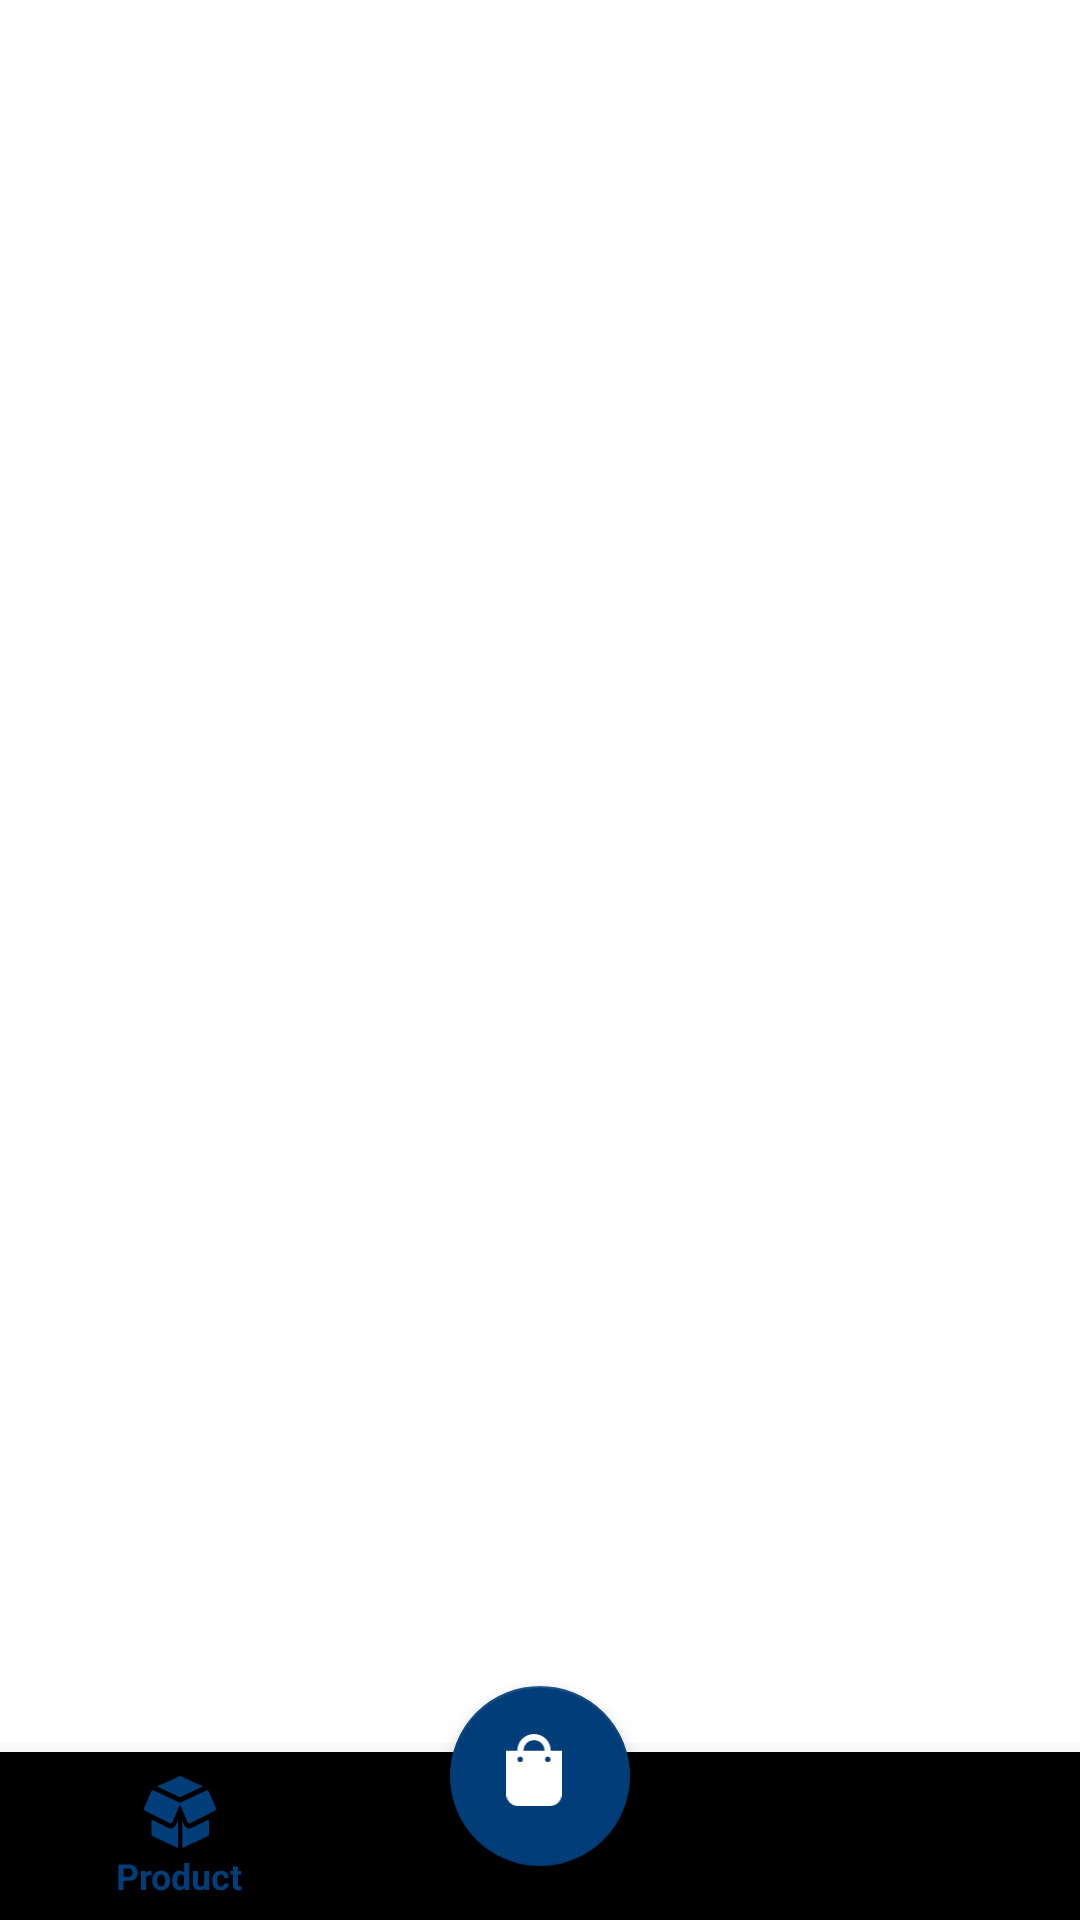

Icon click points for this 1080 × 1920 phone screenshot, format (x=x, y=y):
penjualan: (x=540, y=1776)
